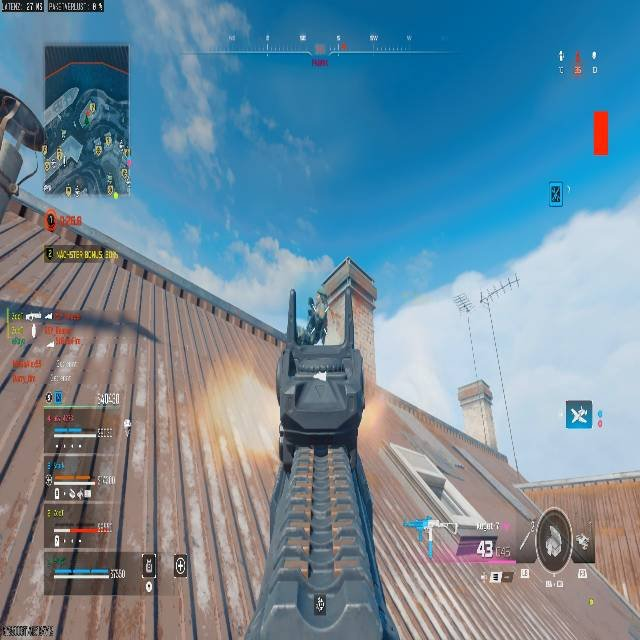head: (0, 79, 47, 234)
